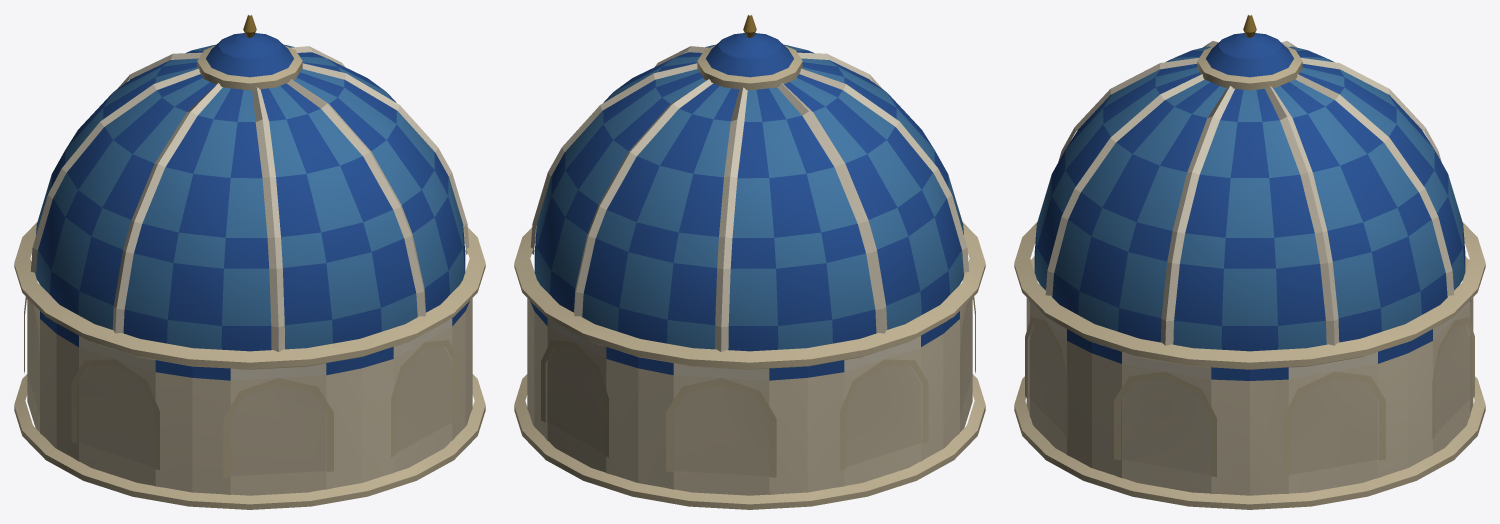
File: dome.closed_8.blue.glb
The picture shows the model from 3 angles, left to right: view 1: azimuth 30°, elevation 25°; view 2: azimuth 150°, elevation 25°; view 3: azimuth 270°, elevation 25°; orthographic projection.
Parts seen in each view (by area): view 1: dome_closed_8_blue; view 2: dome_closed_8_blue; view 3: dome_closed_8_blue.
Boxes of the visible parts, bbox=[...] form: dome_closed_8_blue: bbox=[14, 15, 485, 509]; dome_closed_8_blue: bbox=[514, 15, 985, 509]; dome_closed_8_blue: bbox=[1014, 15, 1485, 509].
Size of what is drawn, in the model's own units: 7.6 by 7.03 by 7.6.
